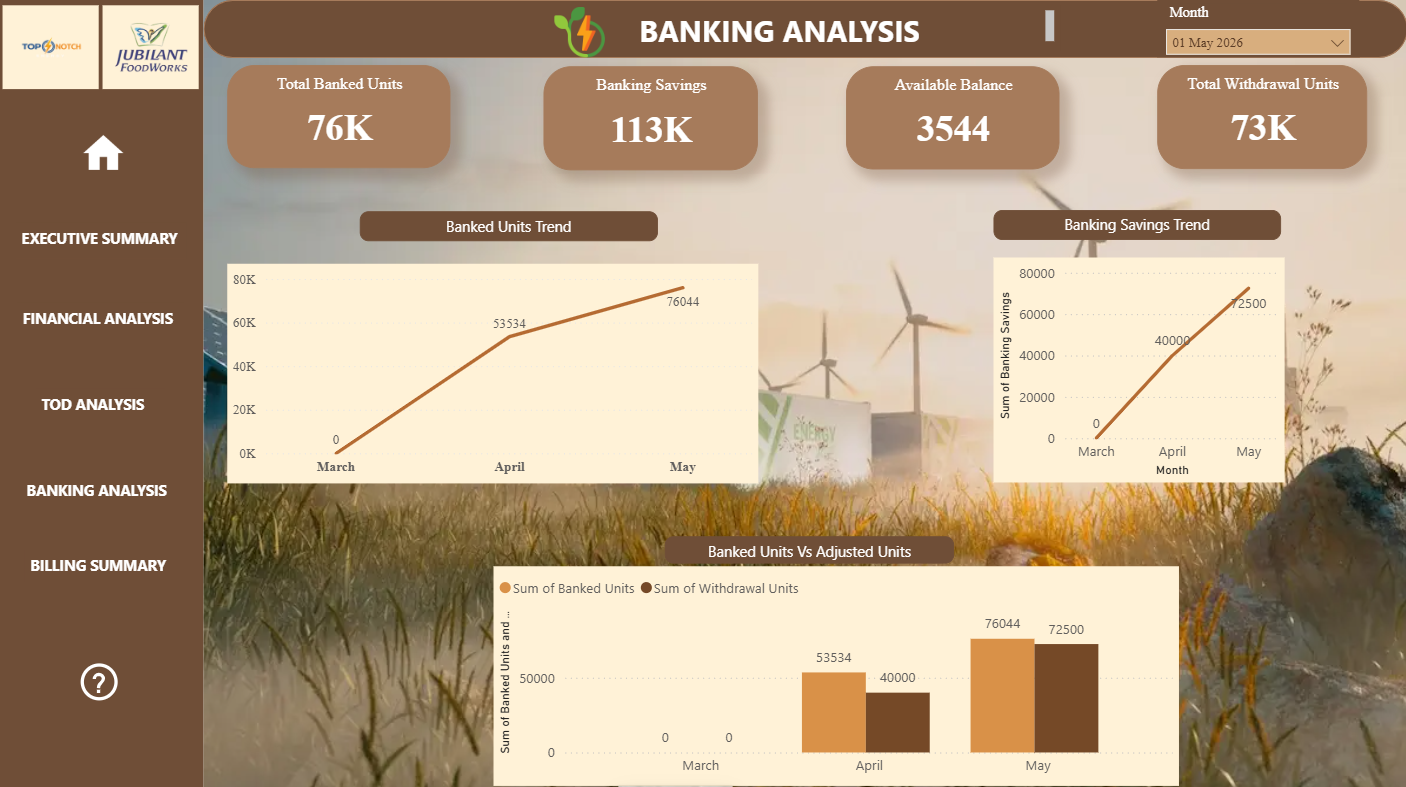

Layout of this report page (visuals, bound fields, positions):
{"tool":"powerbi","page":{"name":"banking analysis","canvas":[1280,720],"ordinal":3},"visuals":[{"type":"card","title":"Total Banked Units","fields":{"Values":["Banking.Total Banked Units"]},"box":[210,58.8,202.5,93.8],"z":0},{"type":"card","title":"Banking Savings","fields":{"Values":["Energy Summary.Banking Savings Measure"]},"box":[496.5,59.9,194.4,94.2],"z":1000},{"type":"card","title":"Available Balance","fields":{"Values":["Banking.Available Banking Balance"]},"box":[771.2,60,193.8,93.8],"z":2000},{"type":"lineChart","title":"Jobs Created with each funding source","fields":{"Category":["Banking.Month.Variation.Date Hierarchy.Month"],"Y":["Sum(Banking.Banked Units)"]},"box":[209.9,238.9,481.4,199.1],"z":3000},{"type":"card","title":"Total Withdrawal Units","fields":{"Values":["Banking.Total Withdrawal Units"]},"box":[1052.9,58.7,190.8,94.2],"z":4000},{"type":"shape","box":[188,0,1092,52.6],"z":5000},{"type":"textbox","box":[904.9,190.8,260.5,26.9],"z":6000},{"type":"textbox","box":[330.2,192,270.2,26.9],"z":7000},{"type":"slicer","fields":{"Values":["Banking.Month"]},"box":[1053.4,0,183.4,52.3],"z":8000},{"type":"textbox","box":[463.5,4.9,501.4,41.6],"z":9000},{"type":"image","box":[23.9,0,63.8,58.5],"z":10000},{"type":"shape","box":[0,0,188.3,720.2],"z":11000},{"type":"image","box":[72.5,113.3,50,51.4],"z":12000},{"type":"actionButton","box":[47.7,102.7,100.3,77],"z":13000},{"type":"actionButton","box":[12.5,190.5,164.3,54.3],"z":14000},{"type":"actionButton","box":[13.9,339.1,164.3,54.3],"z":15000},{"type":"actionButton","box":[12.5,486.2,164.3,52.9],"z":16000},{"type":"textbox","box":[17.9,201.9,154.3,32.9],"z":17000},{"type":"textbox","box":[36.5,352.6,117.1,38.6],"z":18000},{"type":"textbox","box":[26.5,499.1,137.1,28.6],"z":19000},{"type":"actionButton","box":[71.1,596.2,50,44.3],"z":20000},{"type":"actionButton","box":[11.1,417.6,164.3,52.9],"z":21000},{"type":"textbox","box":[22.2,430.8,145.7,28.6],"z":22000},{"type":"actionButton","box":[8.1,262.3,165.3,54.3],"z":23000},{"type":"textbox","box":[19.3,274.4,151.4,38.6],"z":24000},{"type":"image","box":[1.2,0,96.6,85.6],"z":25000},{"type":"image","box":[91.4,0,97.1,85.7],"z":26000},{"type":"textbox","box":[606.2,486.2,262.5,25],"z":27000},{"type":"lineChart","fields":{"Category":["Energy Summary.Month.Variation.Date Hierarchy.Month"],"Y":["Sum(Energy Summary.Banking Savings)"]},"box":[904.8,234,264.2,203.9],"z":28000},{"type":"clusteredColumnChart","fields":{"Category":["Banking.Month.Variation.Date Hierarchy.Month"],"Y":["Sum(Banking.Banked Units)","Sum(Banking.Withdrawal Units)"]},"box":[451.2,513.9,621.3,199.1],"z":29000},{"type":"image","box":[497.1,0,62.9,58.6],"z":34000}]}

Visuals, with their boxes on the page's 1280x720 design canvas (x1, y1, x2, y2). These are canvas units, not pixel positions in the 1406x787 screenshot, which may show the page scaled, cropped or inside an application window:
"Total Banked Units" card: pyautogui.locateOnScreen(210, 59, 412, 153)
"Banking Savings" card: pyautogui.locateOnScreen(496, 60, 691, 154)
"Available Balance" card: pyautogui.locateOnScreen(771, 60, 965, 154)
"Jobs Created with each funding source" lineChart: pyautogui.locateOnScreen(210, 239, 691, 438)
"Total Withdrawal Units" card: pyautogui.locateOnScreen(1053, 59, 1244, 153)
shape: pyautogui.locateOnScreen(188, 0, 1280, 53)
textbox: pyautogui.locateOnScreen(905, 191, 1165, 218)
textbox: pyautogui.locateOnScreen(330, 192, 600, 219)
slicer - Banking.Month: pyautogui.locateOnScreen(1053, 0, 1237, 52)
textbox: pyautogui.locateOnScreen(464, 5, 965, 46)
image: pyautogui.locateOnScreen(24, 0, 88, 58)
shape: pyautogui.locateOnScreen(0, 0, 188, 720)
image: pyautogui.locateOnScreen(72, 113, 122, 165)
actionButton: pyautogui.locateOnScreen(48, 103, 148, 180)
actionButton: pyautogui.locateOnScreen(12, 190, 177, 245)
actionButton: pyautogui.locateOnScreen(14, 339, 178, 393)
actionButton: pyautogui.locateOnScreen(12, 486, 177, 539)
textbox: pyautogui.locateOnScreen(18, 202, 172, 235)
textbox: pyautogui.locateOnScreen(36, 353, 154, 391)
textbox: pyautogui.locateOnScreen(26, 499, 164, 528)
actionButton: pyautogui.locateOnScreen(71, 596, 121, 640)
actionButton: pyautogui.locateOnScreen(11, 418, 175, 470)
textbox: pyautogui.locateOnScreen(22, 431, 168, 459)
actionButton: pyautogui.locateOnScreen(8, 262, 173, 317)
textbox: pyautogui.locateOnScreen(19, 274, 171, 313)
image: pyautogui.locateOnScreen(1, 0, 98, 86)
image: pyautogui.locateOnScreen(91, 0, 188, 86)
textbox: pyautogui.locateOnScreen(606, 486, 869, 511)
lineChart - Energy Summary.Month.Variation.Date Hierarchy.Month x Sum(Energy Summary.Banking Savings): pyautogui.locateOnScreen(905, 234, 1169, 438)
clusteredColumnChart - Banking.Month.Variation.Date Hierarchy.Month x Sum(Banking.Banked Units): pyautogui.locateOnScreen(451, 514, 1072, 713)
image: pyautogui.locateOnScreen(497, 0, 560, 59)
